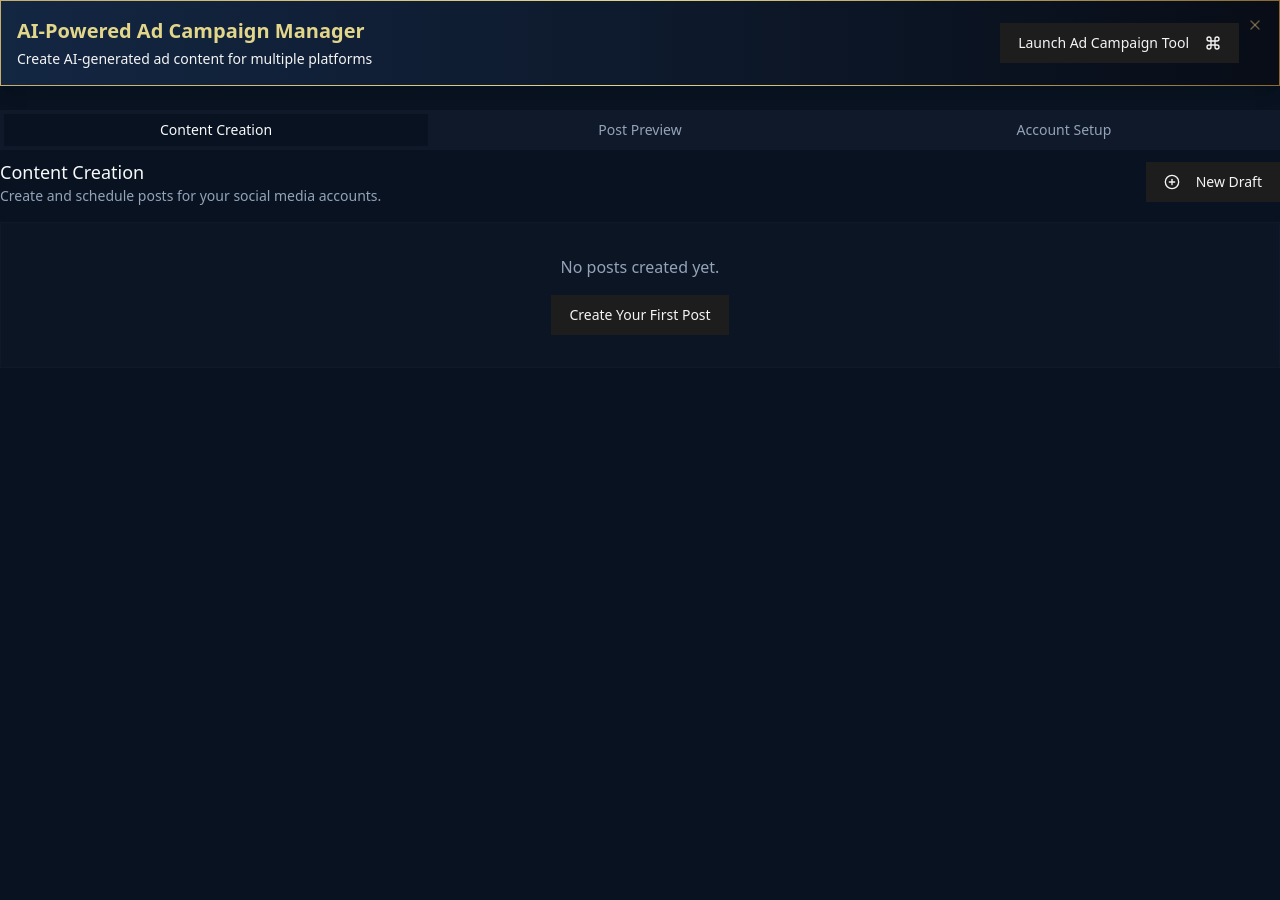
SocialMediaPortal - dropdown selected-value retention › Create Post dialog mediaType combobox is bound to value= (empty string shows placeholder)
The image size is (1280, 900).
Click the button "New Draft" at point(1213, 182), box [1146,162,1279,202]
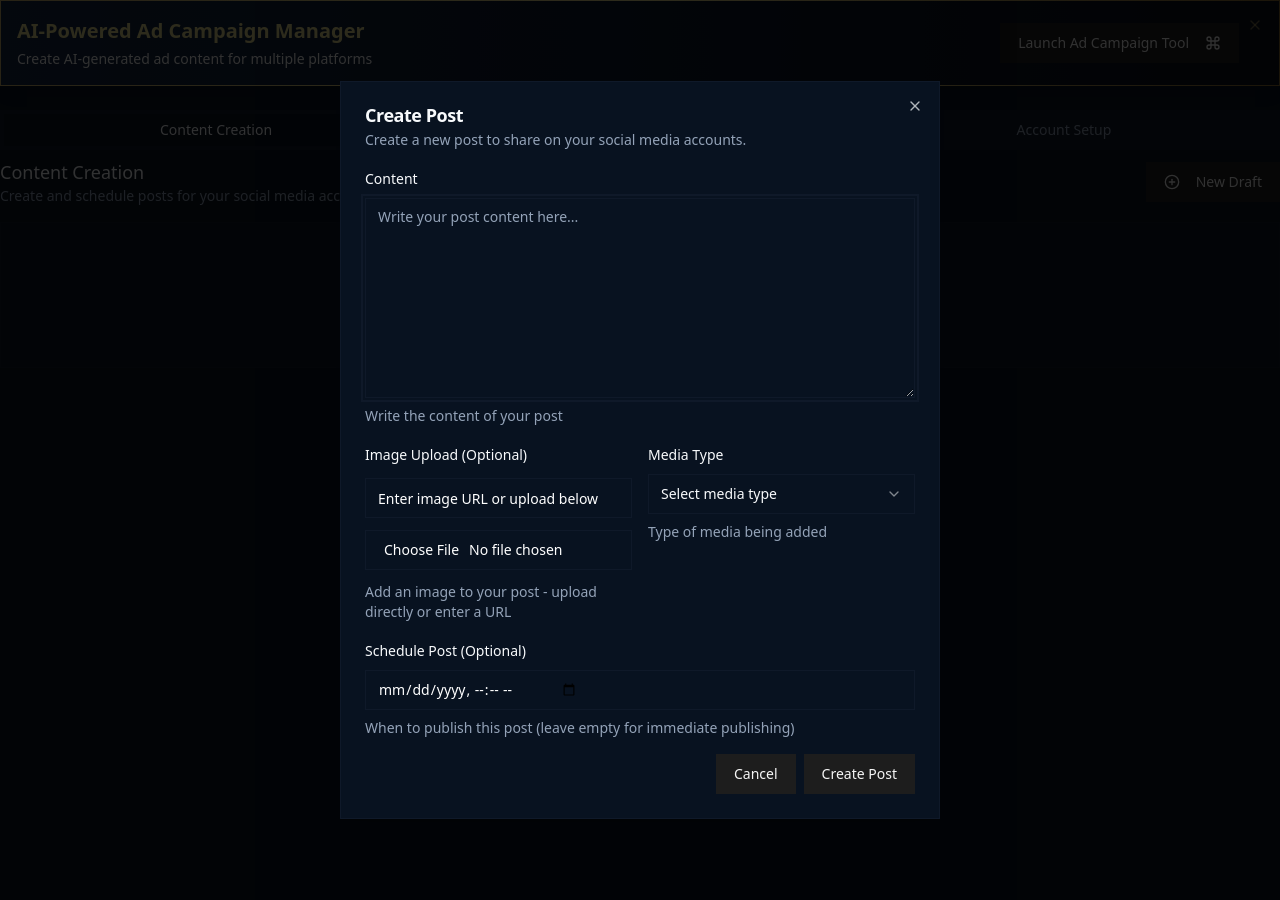
Result: the dialog is shown at [340,81,940,819]
Result: the dropdown labelled "Select media type" is shown at [648,474,915,514]
